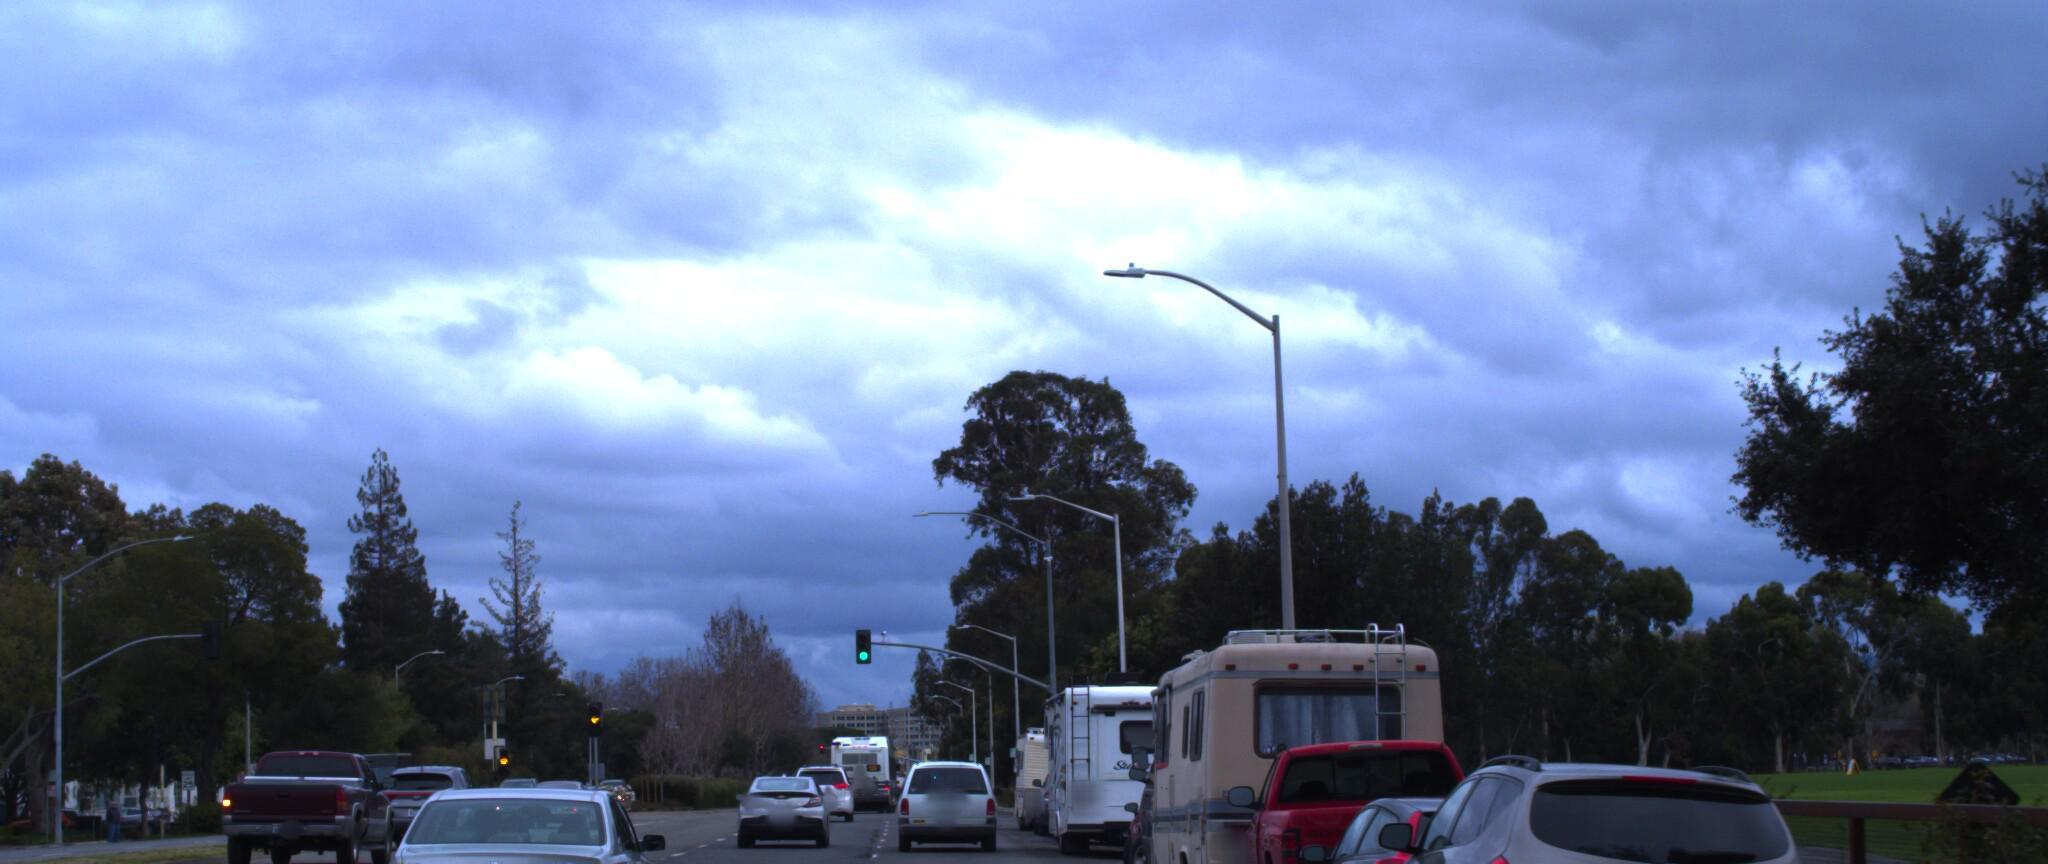car: (1337, 736, 1874, 864), (1226, 714, 1535, 864), (1752, 724, 2048, 864), (360, 760, 673, 864), (1283, 784, 1627, 864), (217, 745, 394, 864), (363, 740, 499, 837), (889, 743, 1004, 844), (720, 764, 825, 844)
other_vehicle: (1125, 609, 1481, 864), (1028, 647, 1224, 851), (984, 707, 1089, 826)
